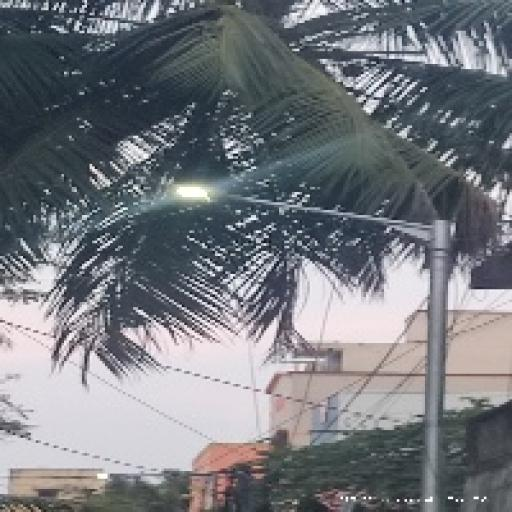Working: (164, 177, 216, 209)
